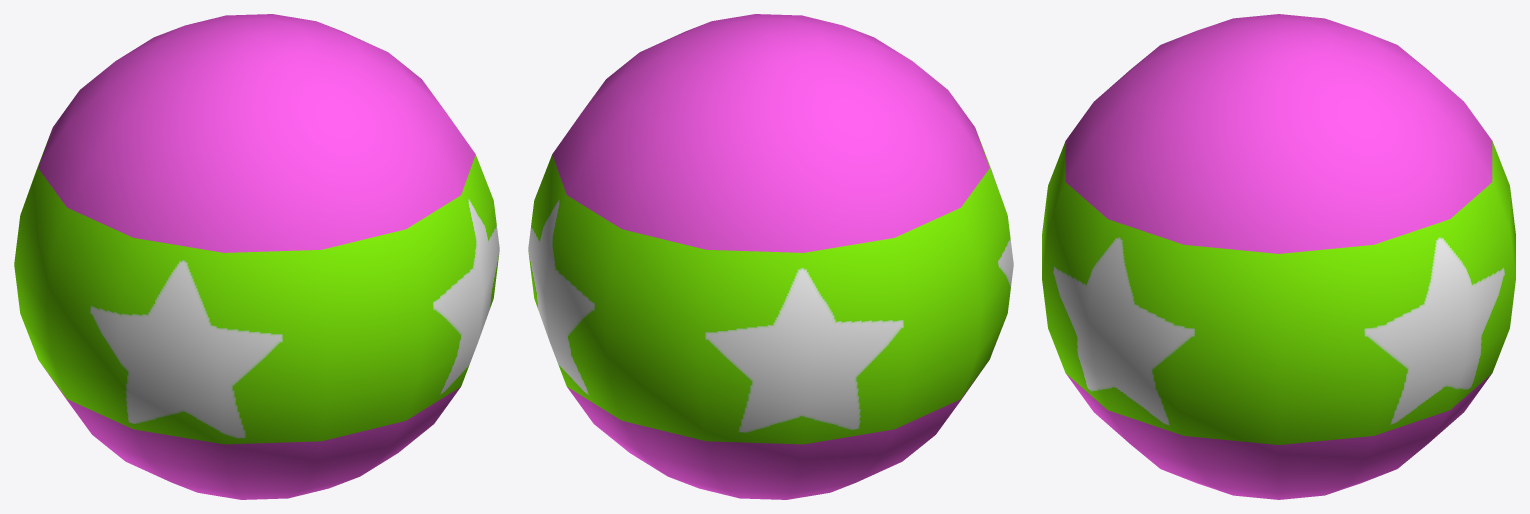
Rendered from pinkBallPlayer4.fbx.
3 renders of one model, left to right at view 1: azimuth 30°, elevation 25°; view 2: azimuth 150°, elevation 25°; view 3: azimuth 270°, elevation 25°, orthographic.
Visible parts, largest first — view 1: Player4_geo; view 2: Player4_geo; view 3: Player4_geo.
Part boxes in pixels (x1=…): Player4_geo: x1=14, y1=14, x2=499, y2=499; Player4_geo: x1=528, y1=14, x2=1013, y2=499; Player4_geo: x1=1042, y1=14, x2=1515, y2=499.
Size of the model in its own units: 102 by 102 by 99.83.
